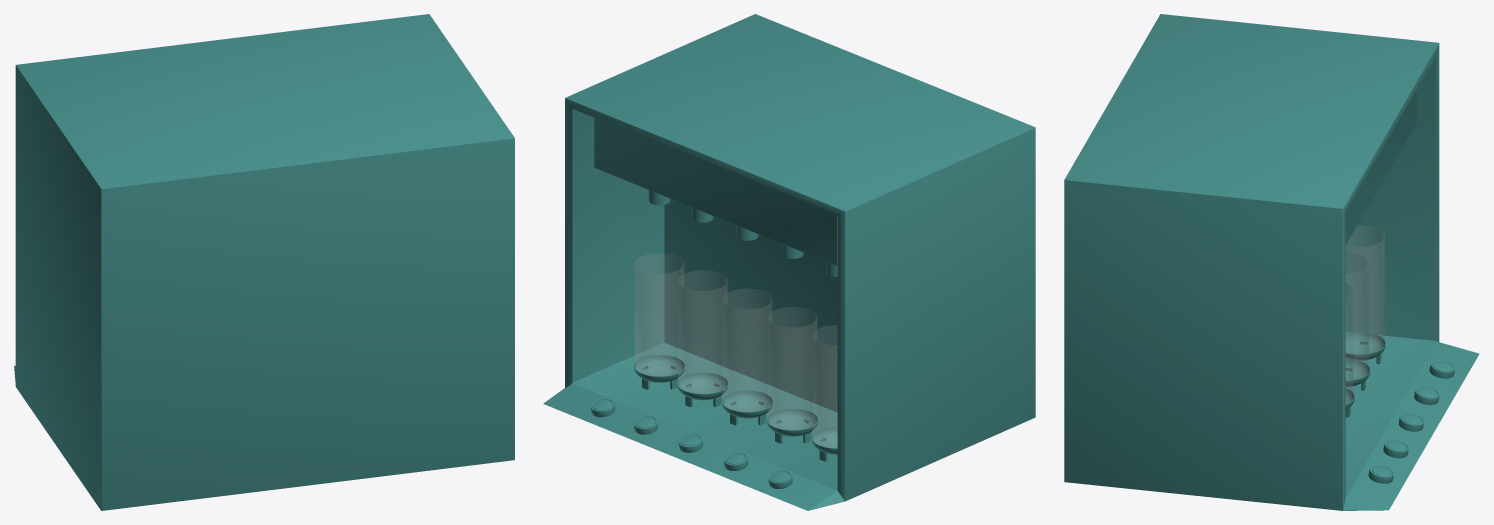
Rendered from MaquinaFrascos.fbx.
The picture shows the model from 3 angles, left to right: view 1: azimuth 30°, elevation 25°; view 2: azimuth 150°, elevation 25°; view 3: azimuth 270°, elevation 25°; orthographic projection. The views are drawn at different scales.
Parts seen in each view (by area): view 1: Cube.003; view 2: Cube.003, Cylinder.019, Cylinder.018, Cylinder.016, Cylinder.005, Cylinder.017, Sphere, Sphere.001, Sphere.003, Sphere.004, Sphere.002; view 3: Cube.003, Cylinder.017, Cylinder.016, Sphere.002, Cylinder.018, Sphere.003.
Boxes of the visible parts, box(x1,y1,x2,y2) form: Cube.003: box(14, 14, 514, 510); Cube.003: box(543, 14, 1035, 510); Cylinder.019: box(678, 271, 727, 393); Cylinder.018: box(723, 289, 771, 411); Cylinder.016: box(768, 307, 816, 429); Cylinder.005: box(635, 254, 683, 375); Cylinder.017: box(813, 325, 837, 447); Sphere: box(677, 372, 728, 407); Sphere.001: box(721, 390, 773, 425); Sphere.003: box(766, 408, 818, 443); Sphere.004: box(633, 355, 685, 389); Sphere.002: box(811, 426, 837, 461); Cube.003: box(1064, 14, 1479, 510); Cylinder.017: box(1346, 226, 1384, 352); Cylinder.016: box(1346, 253, 1368, 379); Sphere.002: box(1345, 331, 1385, 364); Cylinder.018: box(1346, 283, 1353, 403); Sphere.003: box(1345, 358, 1370, 390).
Bounding box in the file's own units: 90.37 × 65.43 × 81.41.
